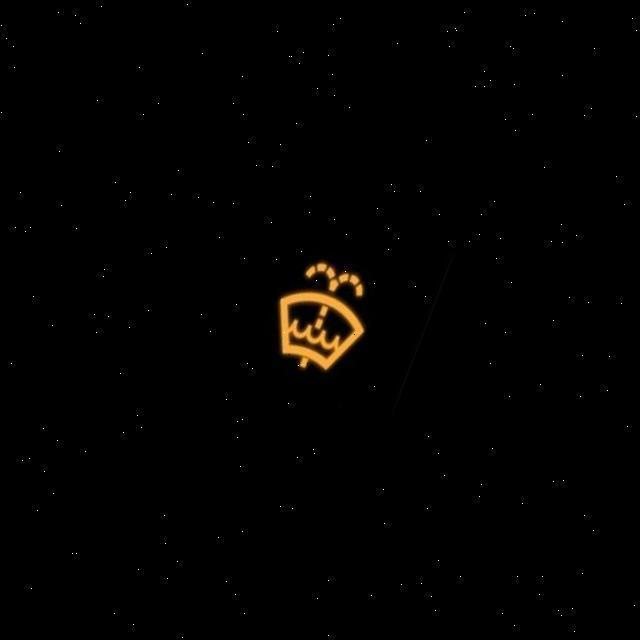Washer Fluid: (280, 262, 369, 378)
